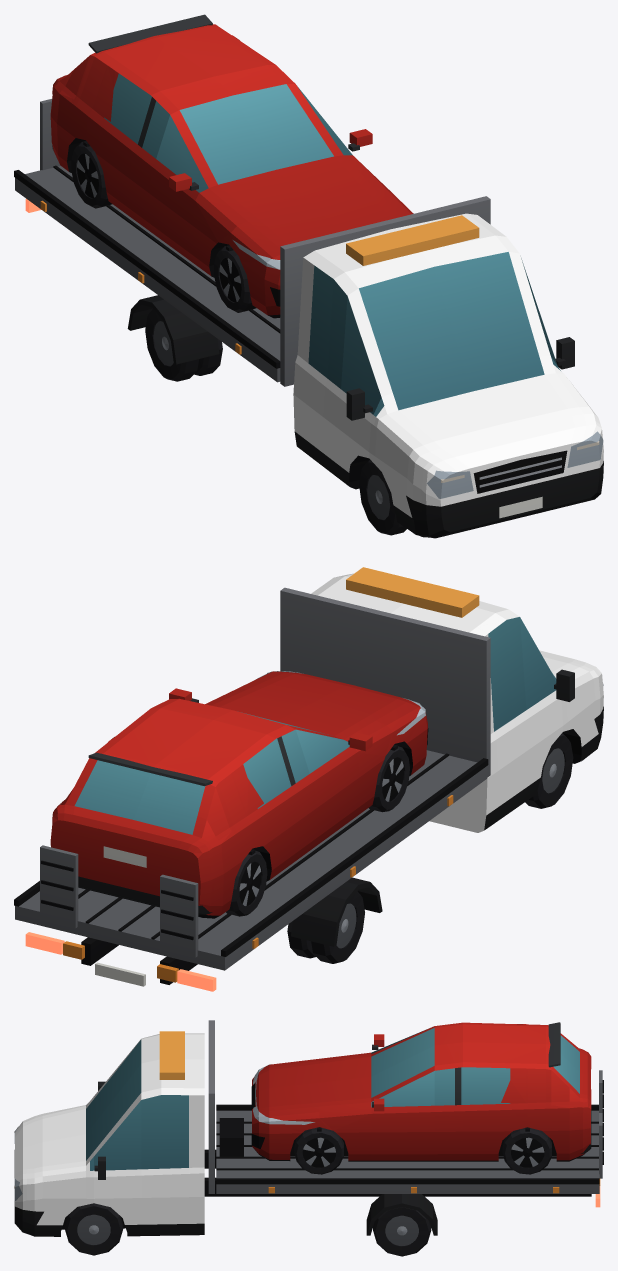
File: TowTruck.fbx
3 views of the same model, one above another, from view 1: azimuth 30°, elevation 25°; view 2: azimuth 150°, elevation 25°; view 3: azimuth 270°, elevation 25° (orthographic). The views are drawn at different scales.
Visible parts, largest first — view 1: body, wheel-back-right, wheel-front-right; view 2: body, wheel-back-right, wheel-front-right; view 3: body, wheel-front-left, wheel-back-left.
Part boxes in pixels (x1,y1,x2,y2): body: (14,14,603,538); wheel-back-right: (145,309,222,381); wheel-front-right: (359,459,406,535); body: (14,567,603,991); wheel-back-right: (287,891,364,963); wheel-front-right: (525,733,573,808); body: (14,1020,603,1236); wheel-front-left: (64,1203,123,1255); wheel-back-left: (373,1207,431,1256).
Bounding box in the file's own units: 2.38 × 2.56 × 7.47.
4 materials, 1 textured.
